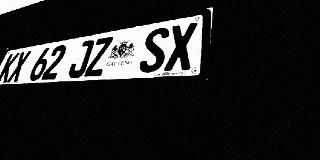2: (41, 44, 68, 80)
6: (27, 47, 54, 81)
J: (66, 39, 95, 78)
K: (0, 52, 20, 83)
S: (138, 26, 170, 73)
X: (164, 22, 197, 71), (6, 50, 32, 83)
Z: (84, 36, 113, 77)
